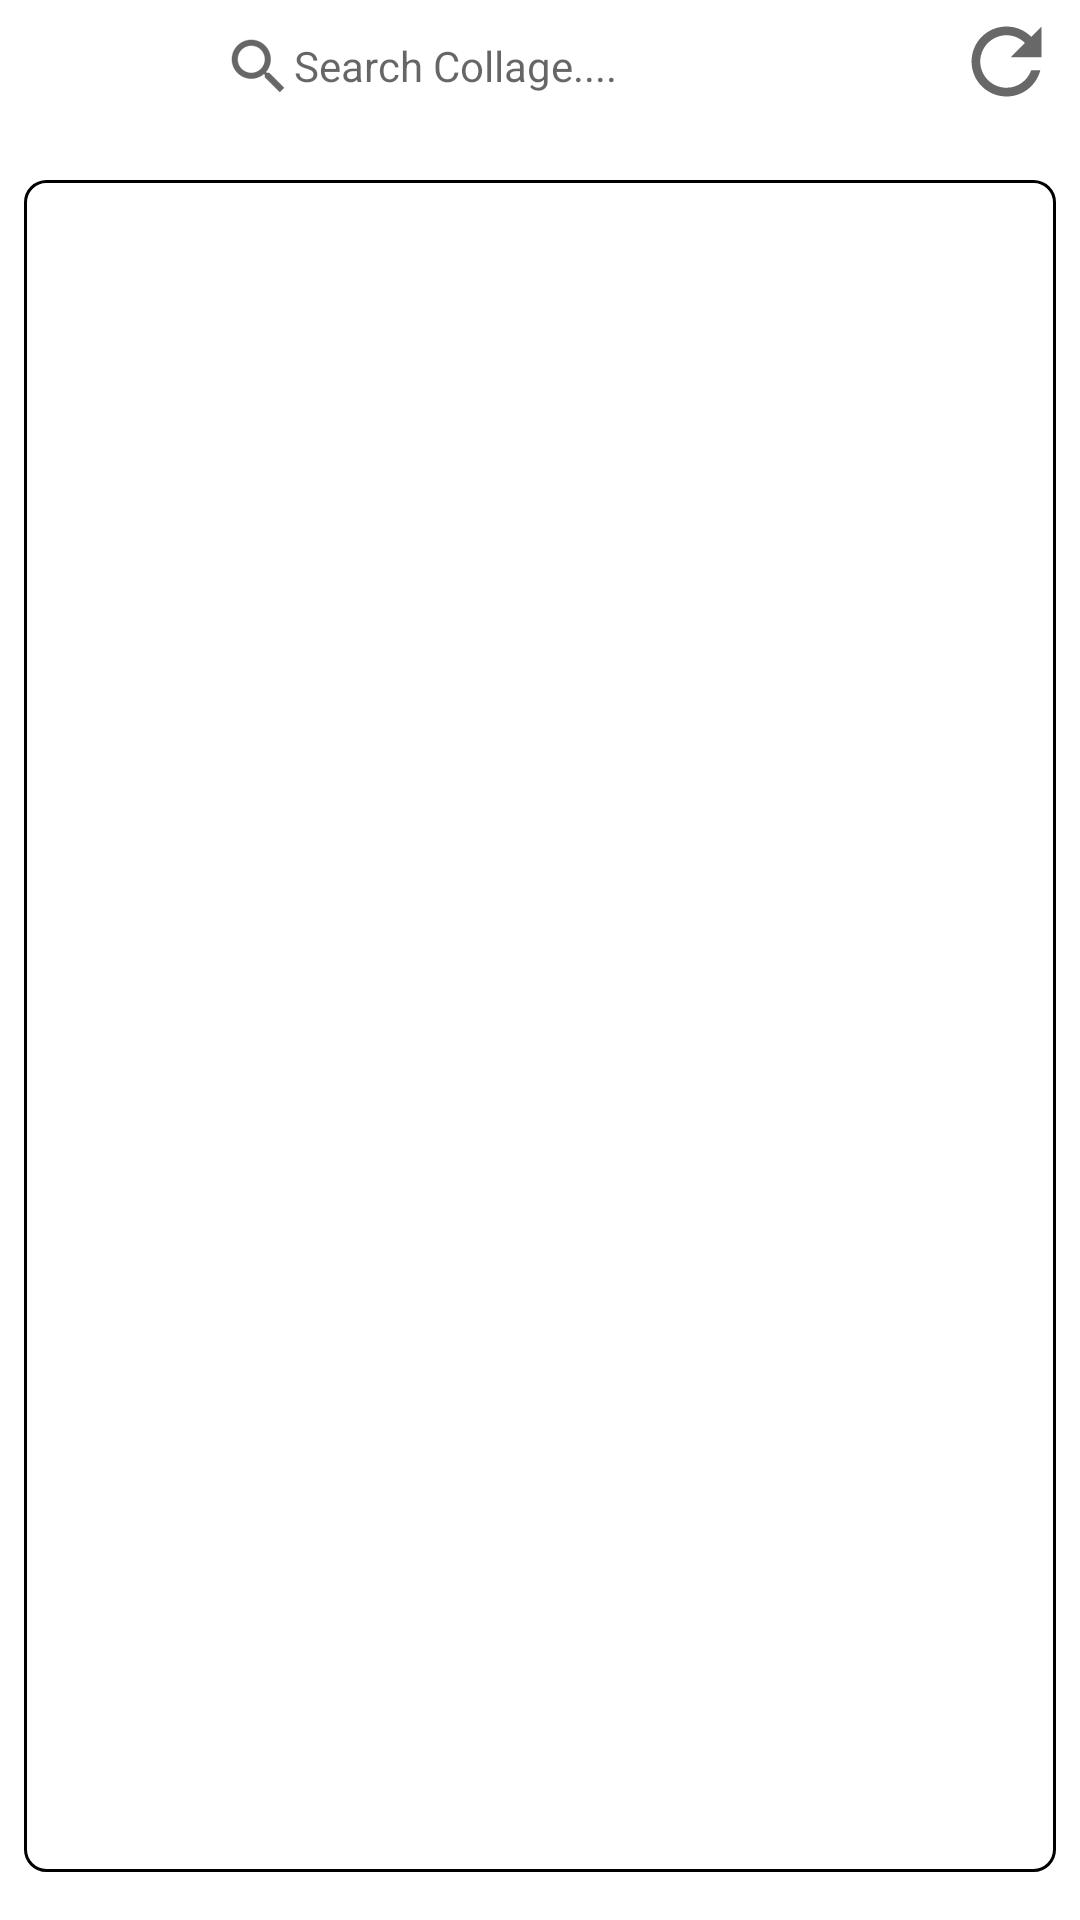

Point at icon controls on the screen. Image size 1080*1920, points as (x=x, y=y).
refresh: (x=1006, y=61)
